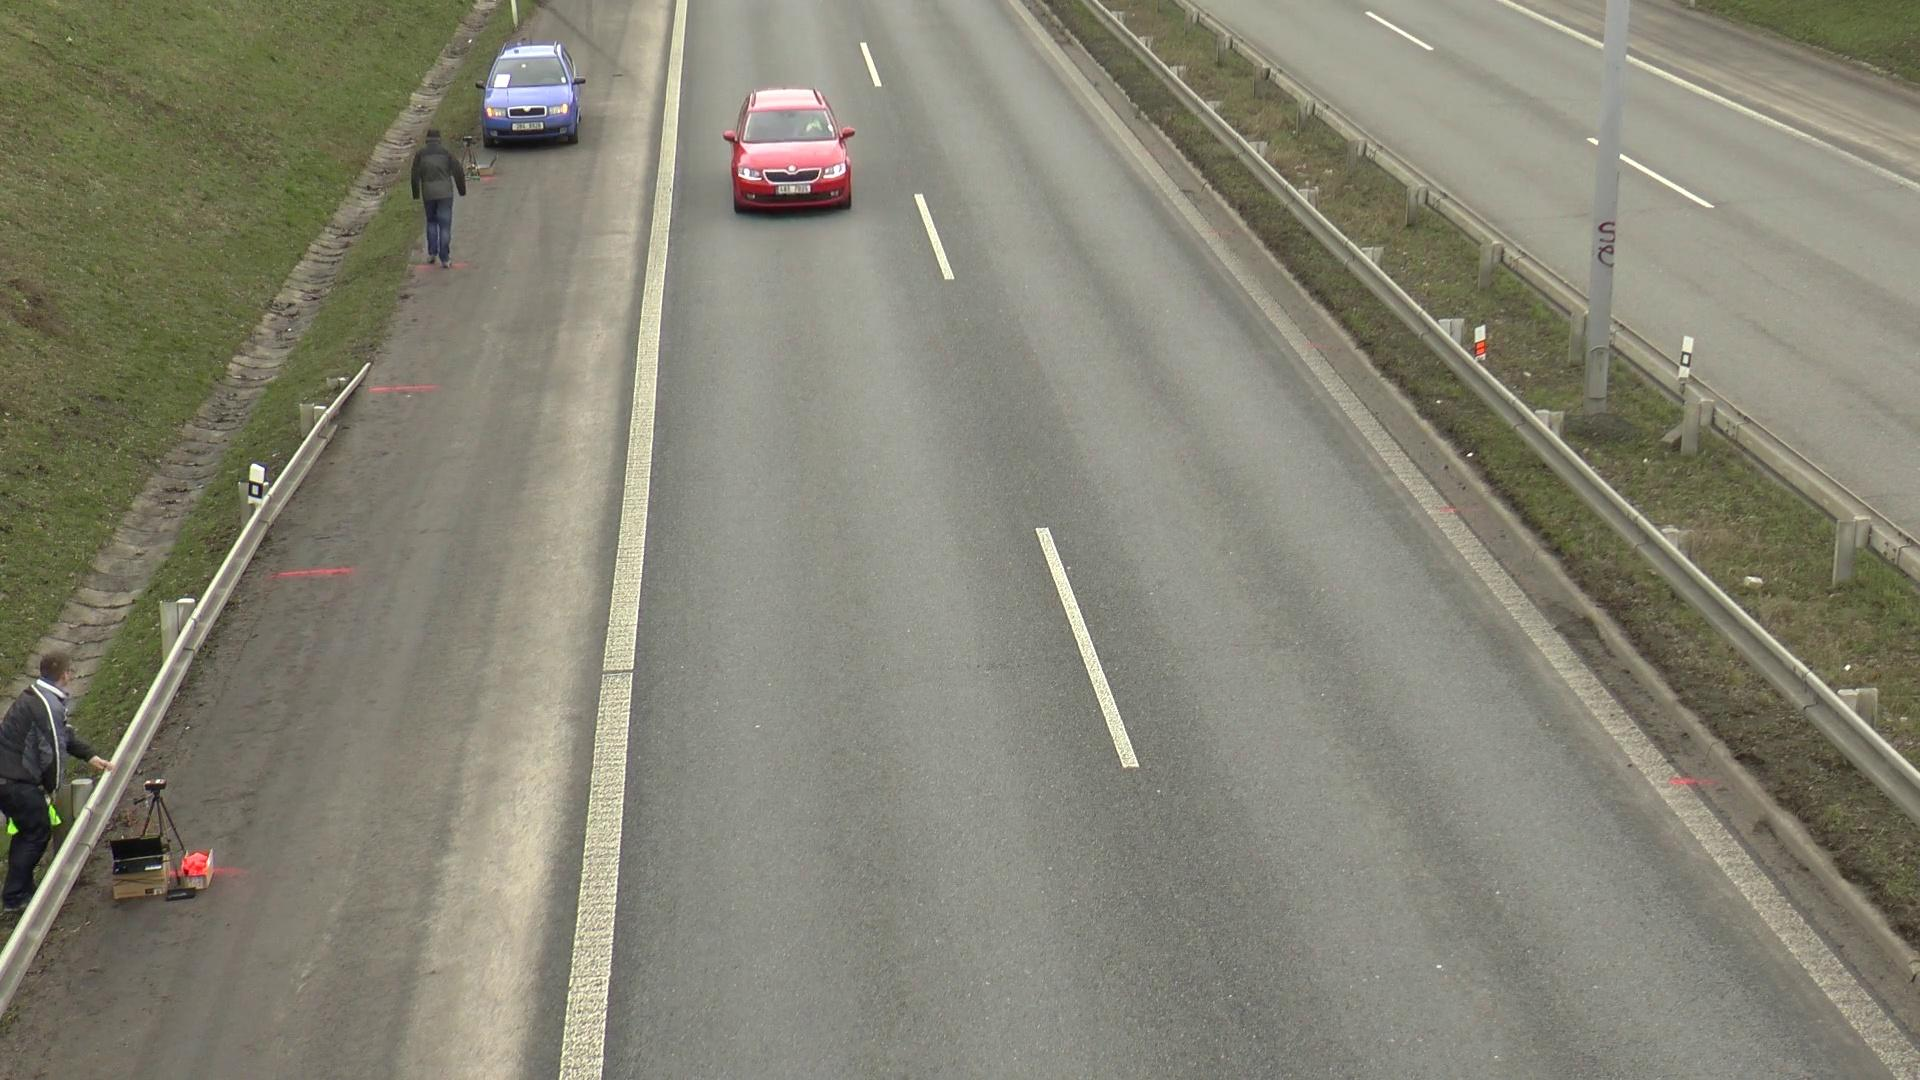Car: (736, 88, 850, 228), (472, 40, 600, 153)
Human: (406, 116, 478, 291)
